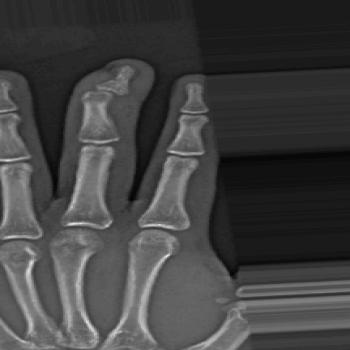Fracture: (81, 79, 127, 98)
